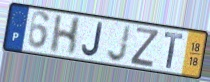6: (27, 9, 52, 54)
H: (48, 14, 83, 57)
J: (106, 23, 133, 64), (81, 21, 105, 58)
T: (163, 32, 184, 71)
Z: (128, 26, 160, 69)
